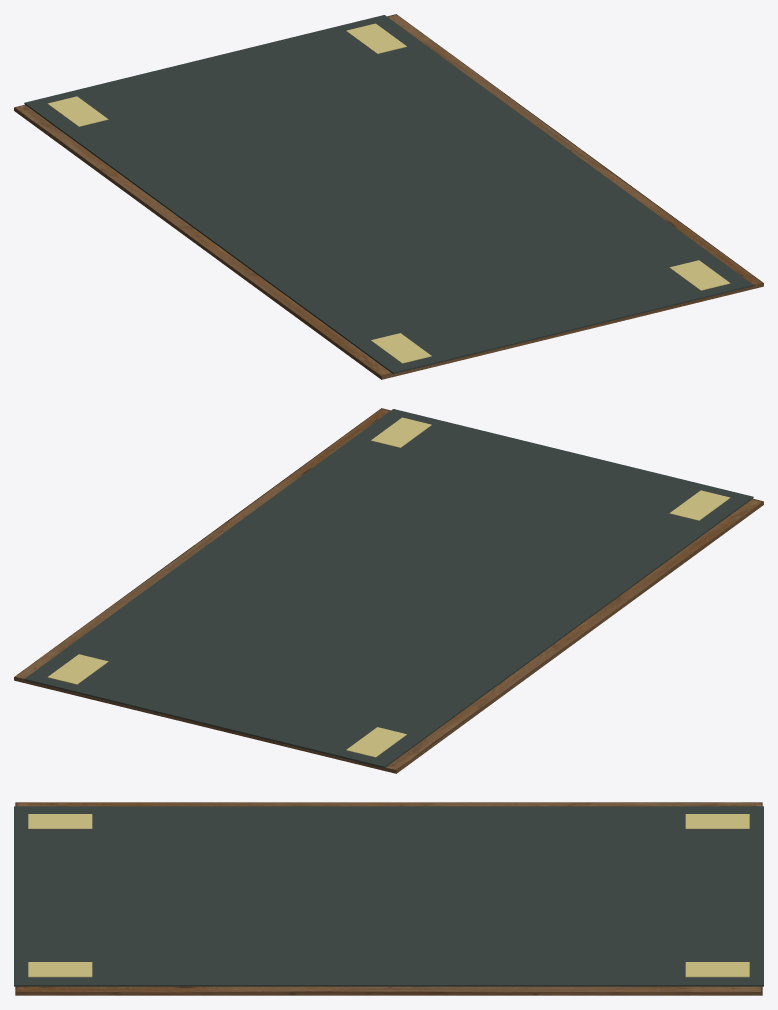
The model's file is crossing-deck.obj.
3 renders of one model, top to bottom at view 1: azimuth 30°, elevation 25°; view 2: azimuth 150°, elevation 25°; view 3: azimuth 270°, elevation 25°, orthographic.
Size of the model in its own units: 3.1 by 0.042 by 5.18.
Materials: 3 (1 with a texture image).
